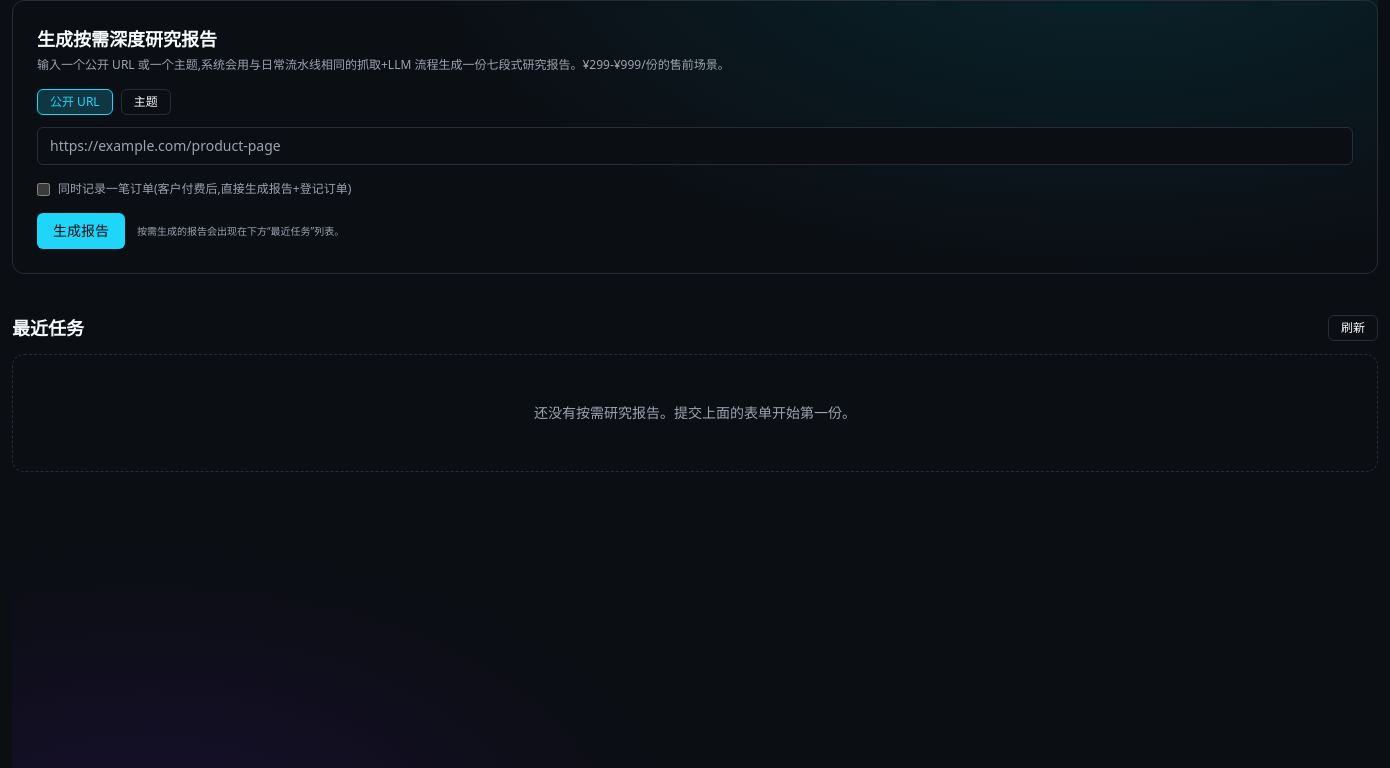
Test: OnDemandPanel › hides the order fields until the attach-order checkbox is checked
Click the checkbox with test id "attach-order-toggle" at (44,189), box top-left (37, 182), bottom-right (50, 196)
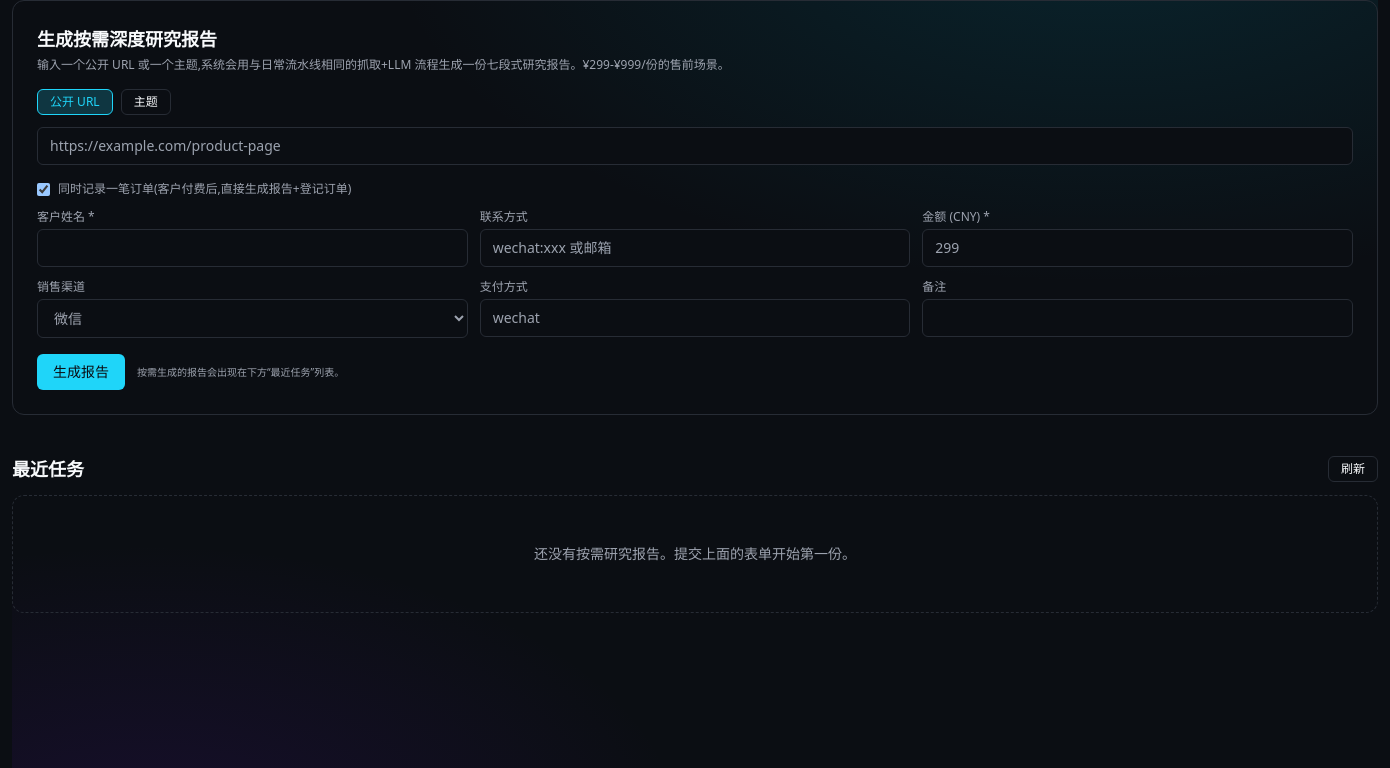
expect the element with test id "order-fields" is shown: met, box top-left (37, 209), bottom-right (1353, 338)
expect the field with test id "order-customer-name-input" is shown: met, box top-left (37, 229), bottom-right (468, 267)
expect the number field with test id "order-amount-input" is shown: met, box top-left (922, 229), bottom-right (1353, 267)
